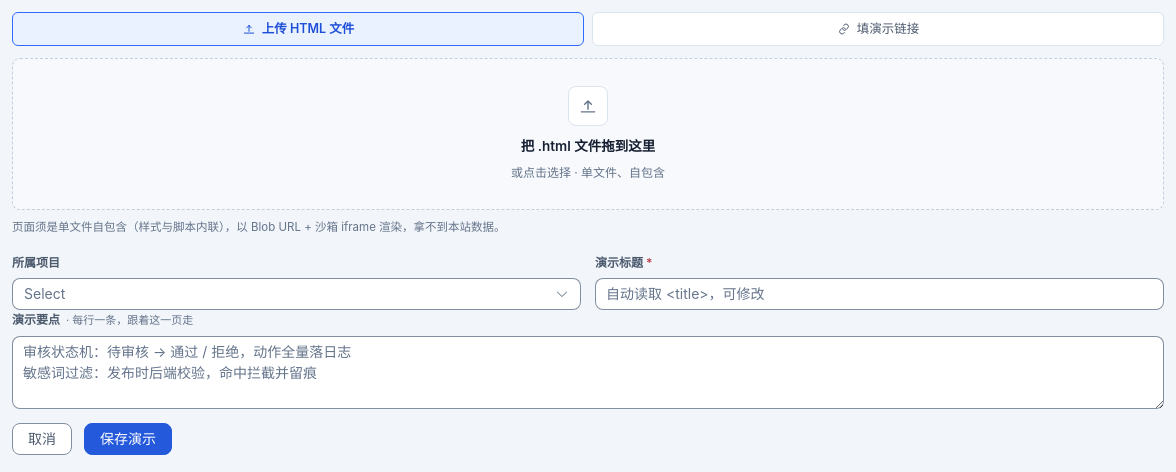
it: DemoUploadDialog 链接来源 › 切到链接来源：放置区换成链接面板
Expected: the file field with test id "demo-file-label" is shown, [12, 58, 1164, 210]
Click the button "填演示链接" at (878, 29), box [592, 12, 1164, 46]
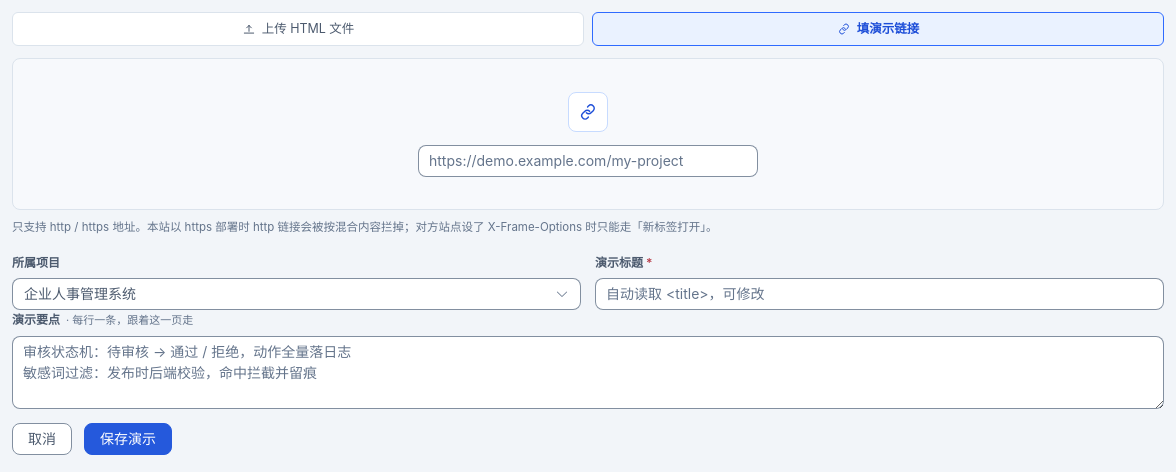
Expected: the element with test id "demo-link-panel" is shown, [12, 58, 1164, 210]
